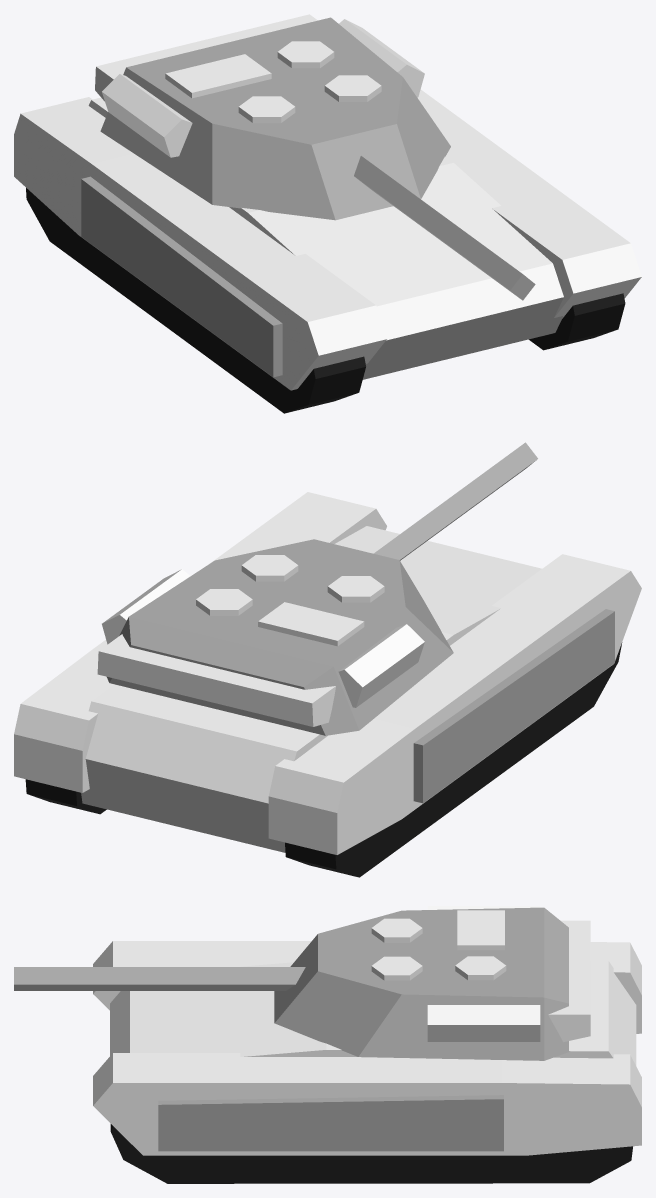
Rendered from tank.fbx.
3 renders of one model, top to bottom at view 1: azimuth 30°, elevation 25°; view 2: azimuth 150°, elevation 25°; view 3: azimuth 270°, elevation 25°, orthographic. The views are drawn at different scales.
Parts seen in each view (by area): view 1: Tank, TankHead; view 2: Tank, TankHead; view 3: Tank, TankHead.
Boxes of the visible parts, box(x1,y1,x2,y2) form: Tank: box(14, 89, 641, 413); TankHead: box(95, 14, 535, 300); Tank: box(14, 492, 641, 877); TankHead: box(97, 442, 537, 735); Tank: box(93, 941, 641, 1183); TankHead: box(14, 906, 590, 1060).
Size of the model in its own units: 145 by 75.63 by 256.
